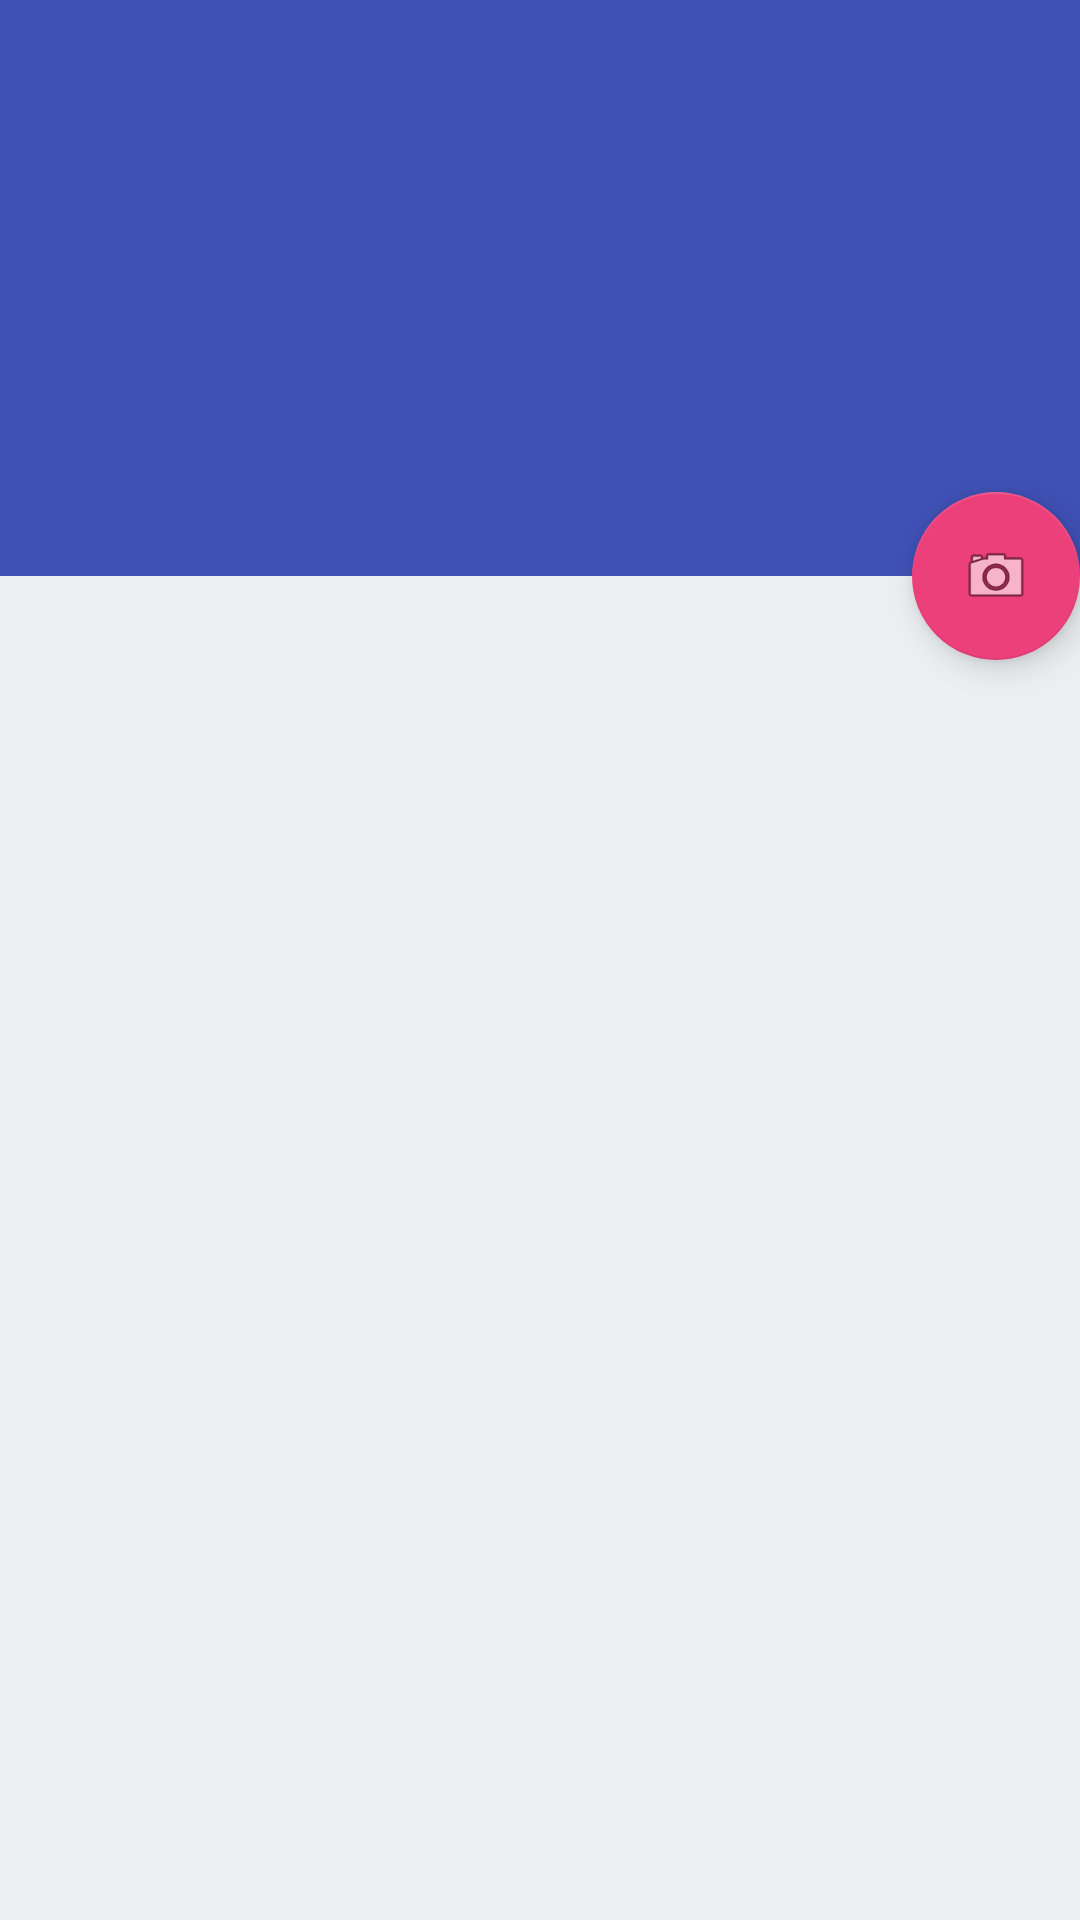

Screen size 1080px x 1920px. Icon name, then its center in pixels as (x=x, y=y):
Seleccionar imagen: (x=996, y=576)
